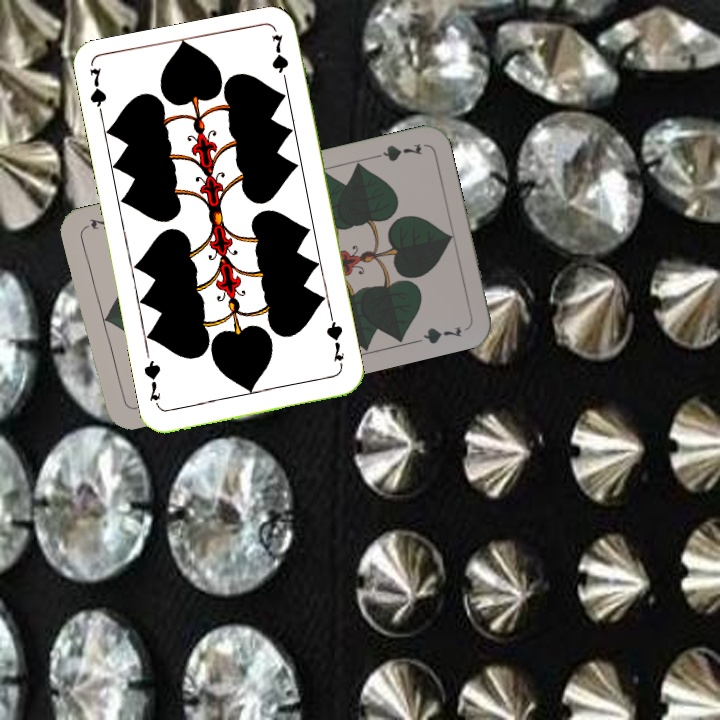G7: (366, 139, 425, 164), (85, 64, 109, 124), (322, 315, 347, 364)
